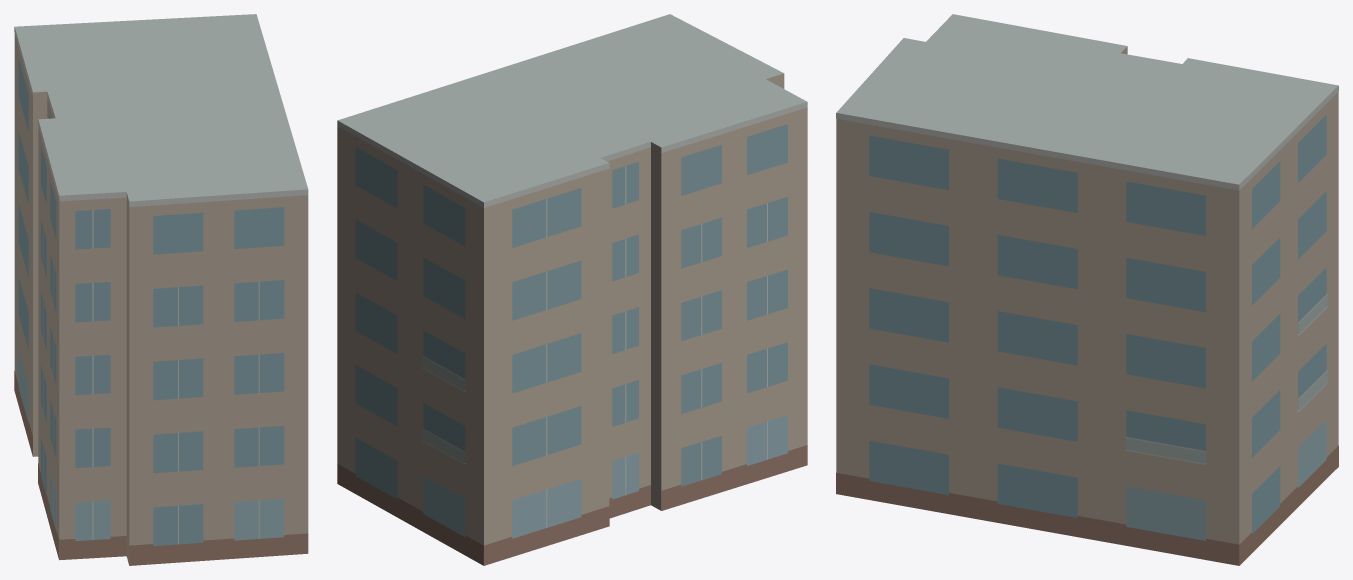
Rendered from survey-upis-32582068.glb.
3 views of the same model, side by side, from view 1: azimuth 30°, elevation 25°; view 2: azimuth 150°, elevation 25°; view 3: azimuth 270°, elevation 25° (orthographic). The views are drawn at different scales.
Visible parts, largest first — view 1: survey-upis-32582068.tmp; view 2: survey-upis-32582068.tmp; view 3: survey-upis-32582068.tmp.
Boxes of the visible parts, box(x1,y1,x2,y2) form: survey-upis-32582068.tmp: box(14, 14, 308, 565); survey-upis-32582068.tmp: box(337, 14, 807, 565); survey-upis-32582068.tmp: box(836, 14, 1338, 565).
Bounding box in the file's own units: 15.08 × 15.7 × 18.77.
